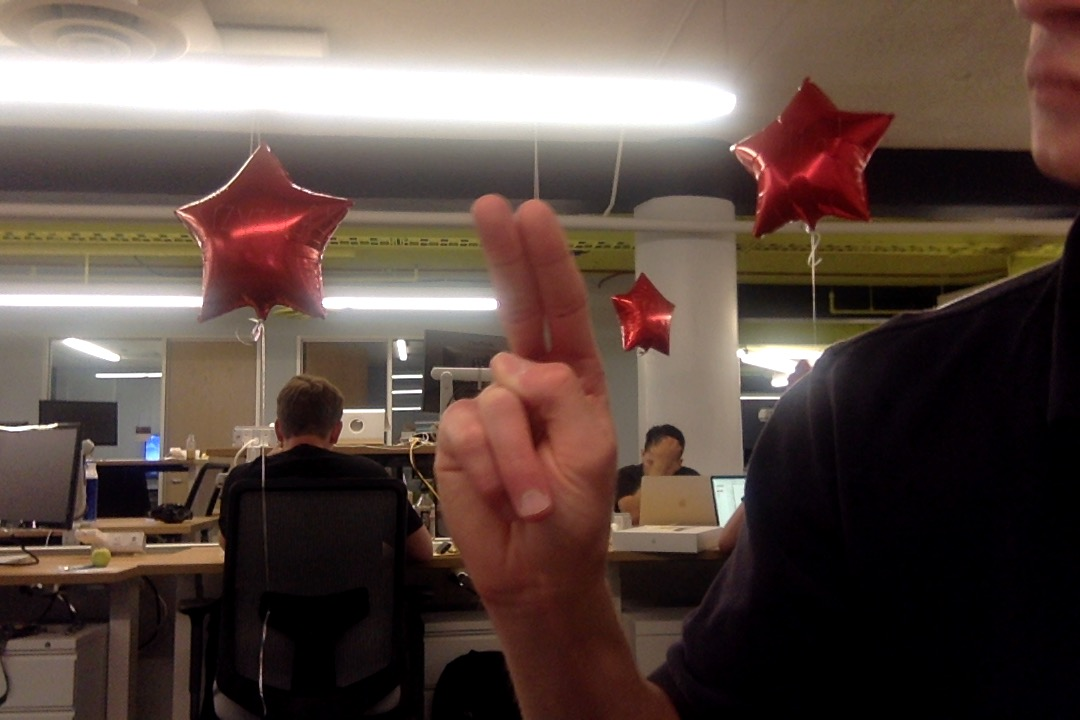u: (421, 181, 626, 596)
